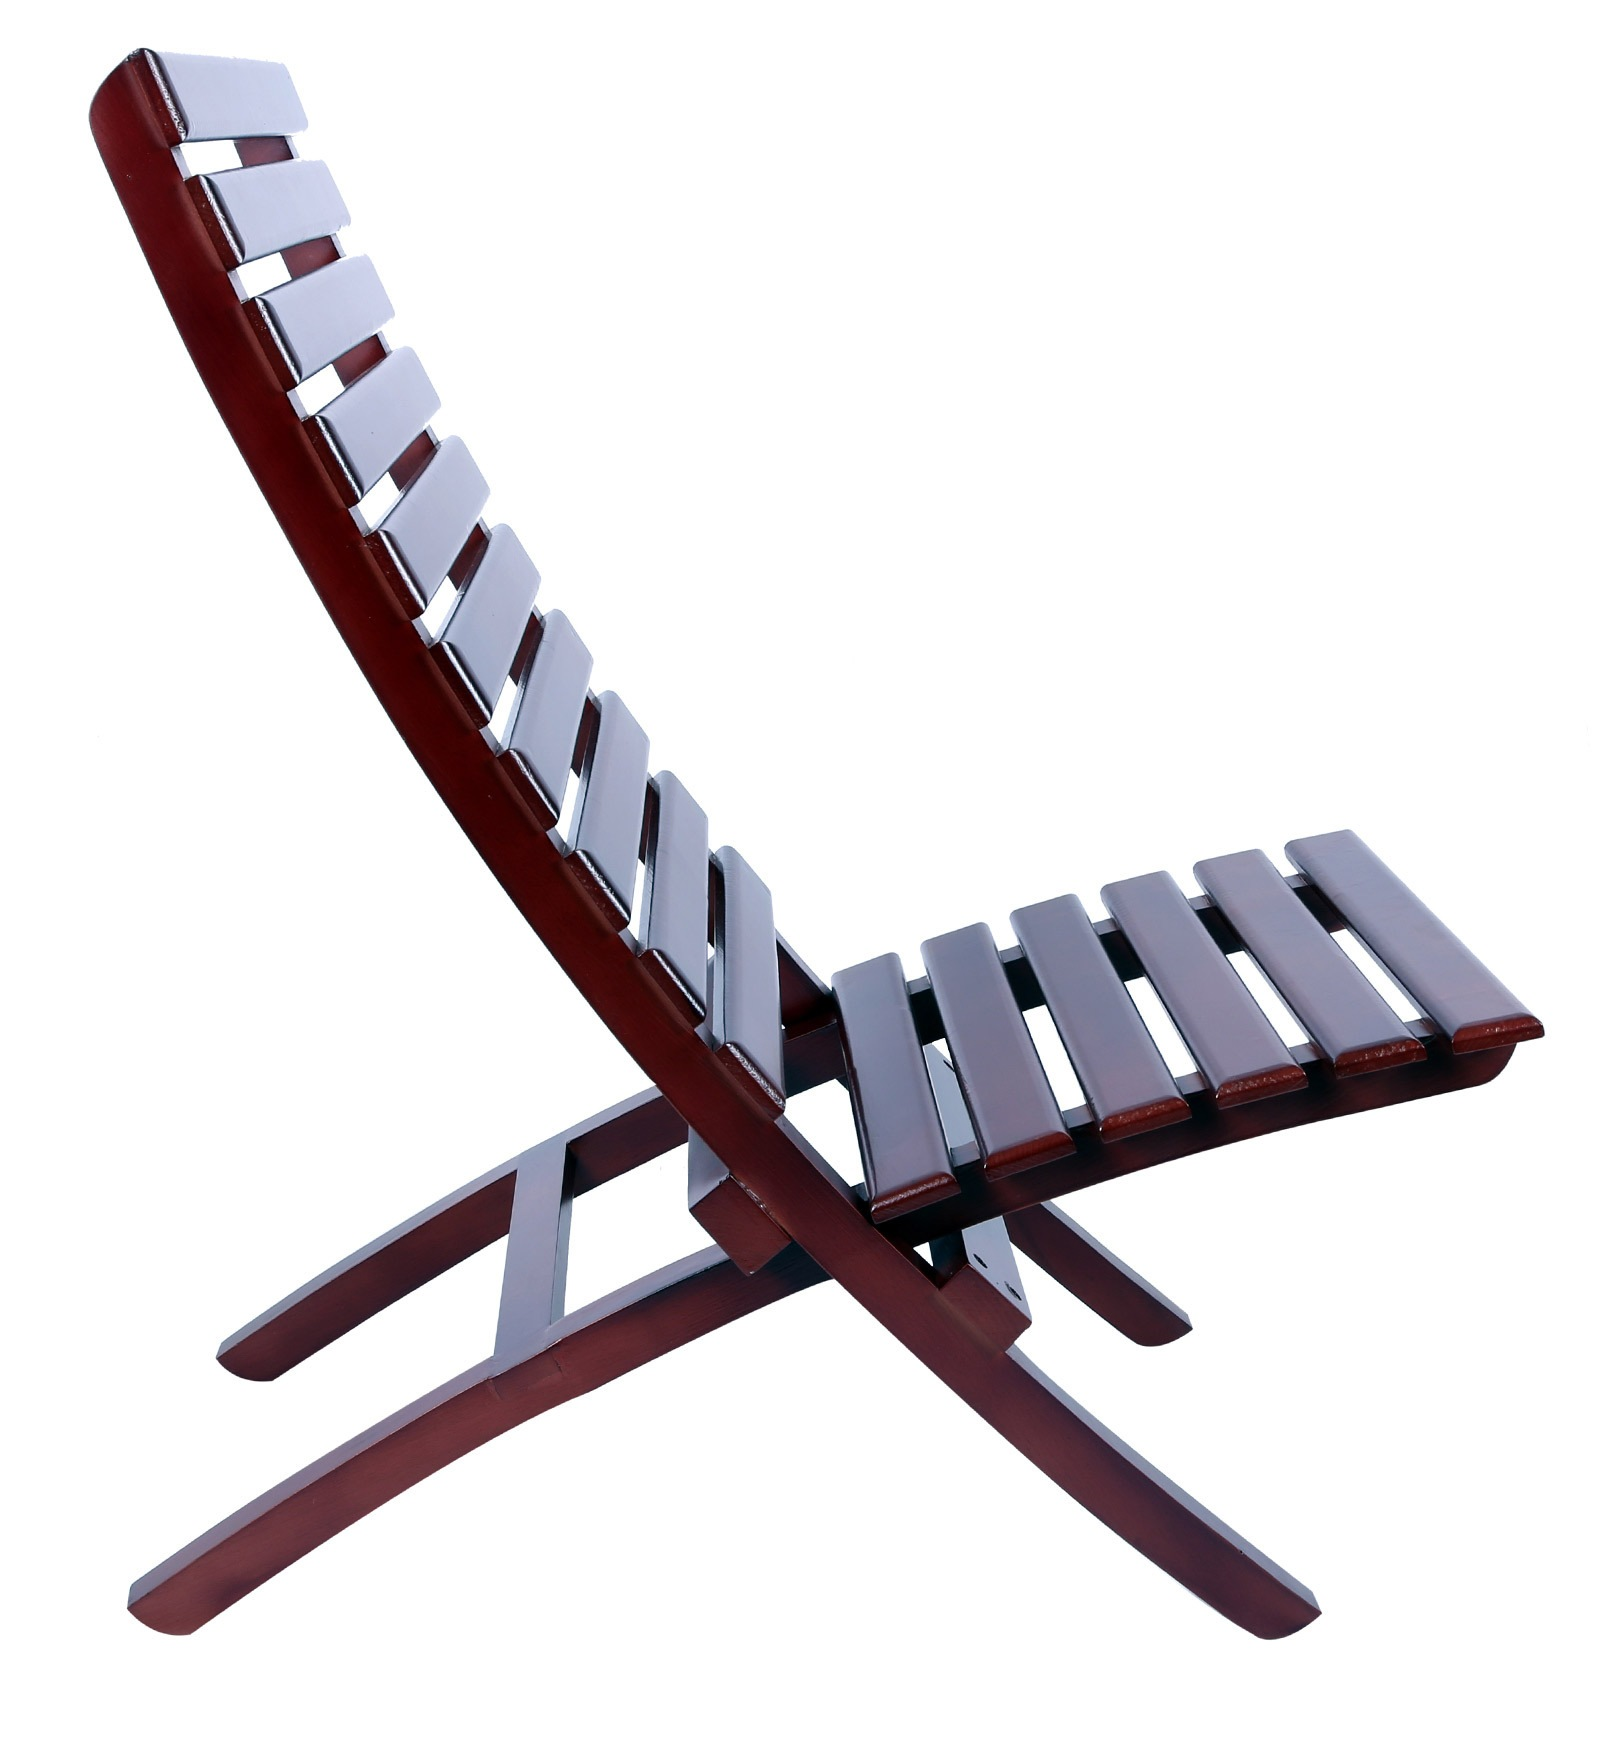Foldable Chair in Brown Colour by ClasiCraft: (51, 31, 1577, 1739)
